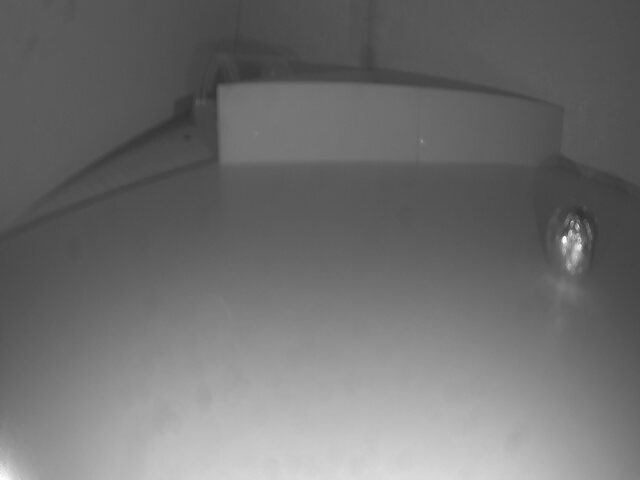Live: (546, 201, 600, 272)
Point: (224, 82, 561, 167)
